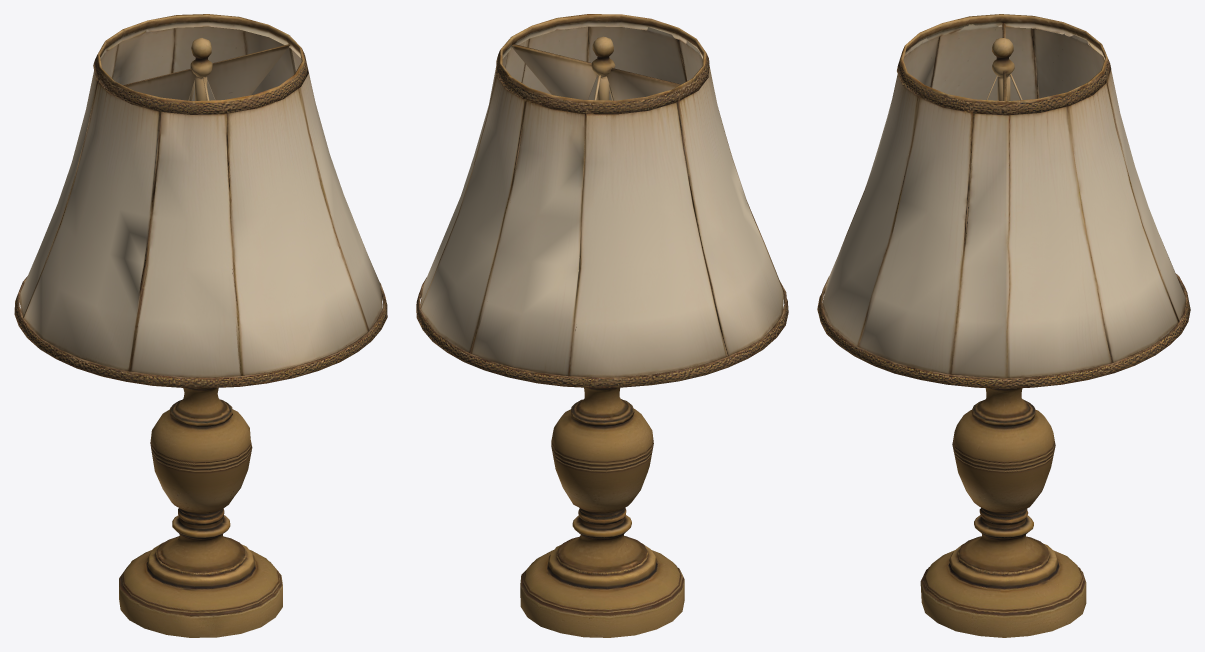
The model's file is lighting-table-lamp.glb.
3 views of the same model, side by side, from view 1: azimuth 30°, elevation 25°; view 2: azimuth 150°, elevation 25°; view 3: azimuth 270°, elevation 25° (orthographic).
Visible parts, largest first — view 1: tripo_node_15ff0661-7f31-49c8-8d49-8f727878a4d4; view 2: tripo_node_15ff0661-7f31-49c8-8d49-8f727878a4d4; view 3: tripo_node_15ff0661-7f31-49c8-8d49-8f727878a4d4.
Boxes of the visible parts, box(x1,y1,x2,y2) form: tripo_node_15ff0661-7f31-49c8-8d49-8f727878a4d4: box(14, 14, 387, 637); tripo_node_15ff0661-7f31-49c8-8d49-8f727878a4d4: box(416, 14, 788, 637); tripo_node_15ff0661-7f31-49c8-8d49-8f727878a4d4: box(817, 14, 1190, 637).
Bounding box in the file's own units: 0.3 × 0.5 × 0.3.
1 material, 1 textured.
